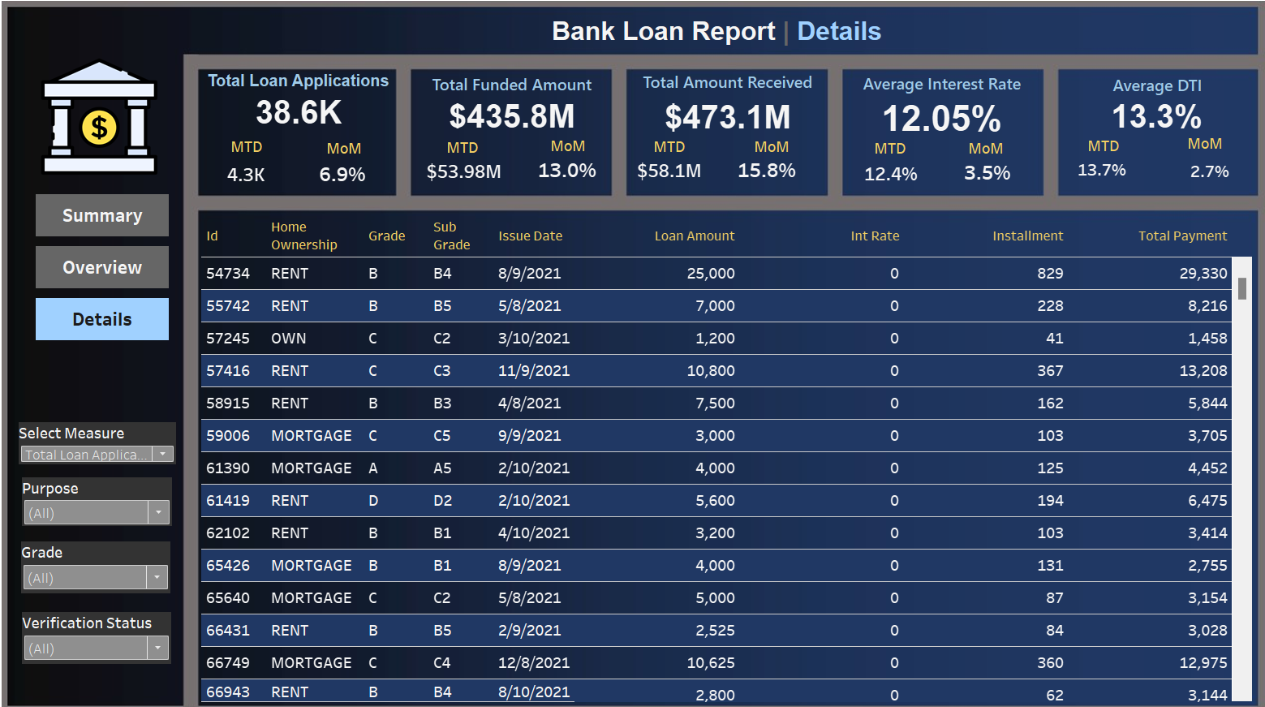

The dashboard page shown, as its layout file describes it:
{"tool":"tableau","page":{"name":"Details","canvas":[1600,900],"ordinal":0},"visuals":[{"type":"image","param":"Image/Tableau Background 3.jpg","box":[8,8,1584,884]},{"type":"text","box":[642,30,521,39]},{"type":"image","param":"Image/bank_4770298.png","box":[56,76,170,156]},{"type":"worksheet","title":"Total Amount Received","mark":"Automatic","box":[790,93,252,82]},{"type":"worksheet","title":"Total Loan Applications","mark":"Automatic","box":[266,95,241,70]},{"type":"worksheet","title":"Average Interest Rate","mark":"Automatic","box":[1055,95,250,81]},{"type":"worksheet","title":"Total Funded Amount","mark":"Automatic","box":[527,96,246,73]},{"type":"worksheet","title":"Average DTI","mark":"Automatic","box":[1325,97,241,72]},{"type":"text","box":[1454,172,100,30]},{"type":"text","box":[669,175,100,30]},{"type":"text","box":[1329,175,100,30]},{"type":"text","box":[273,176,100,30]},{"type":"text","box":[794,176,100,30]},{"type":"text","box":[920,176,100,30]},{"type":"text","box":[539,177,100,30]},{"type":"text","box":[393,178,100,30]},{"type":"text","box":[1066,178,100,30]},{"type":"text","box":[1184,178,100,30]},{"type":"worksheet","title":"MoM Total Funded Amount","mark":"Automatic","box":[675,198,86,42]},{"type":"worksheet","title":"MTD Total Amount Received","mark":"Automatic","box":[799,200,90,39]},{"type":"worksheet","title":"MoM Total Amount Received","mark":"Automatic","box":[921,200,85,37]},{"type":"worksheet","title":"MTD Average DTI","mark":"Automatic","box":[1327,200,100,37]},{"type":"worksheet","title":"MoM Average DTI","mark":"Automatic","box":[1465,200,90,41]},{"type":"worksheet","title":"MTD Total Funded Amount","mark":"Automatic","box":[540,201,101,39]},{"type":"worksheet","title":"MoM Average Interest Rate","mark":"Automatic","box":[1194,205,83,33]},{"type":"worksheet","title":"MTD Average Interest Rate","mark":"Automatic","box":[1077,207,80,33]},{"type":"worksheet","title":"MTD Loan Applications","mark":"Automatic","box":[278,208,87,33]},{"type":"worksheet","title":"MoM Loan Applications","mark":"Automatic","box":[399,208,84,31]},{"type":"dashboard-object","box":[63,250,164,52]},{"type":"worksheet","title":"Details Tab","mark":"Automatic","rows":["id","home_ownership","grade","sub_grade","issue_date"],"box":[267,275,1295,601]},{"type":"dashboard-object","box":[63,314,164,52]},{"type":"dashboard-object","box":[63,378,164,52]},{"type":"parameter","param":"[Parameters].[Parameter 1]","box":[42,531,194,52]},{"type":"filter","title":"Average DTI","param":"[federated.1mfxow81dj9rb515gv0x40jgt81q].[none:purpose:nk]","box":[46,599,185,60]},{"type":"filter","title":"Average DTI","param":"[federated.1mfxow81dj9rb515gv0x40jgt81q].[none:grade:nk]","box":[45,678,184,64]},{"type":"filter","title":"Average DTI","param":"[federated.1mfxow81dj9rb515gv0x40jgt81q].[none:verification_status:nk]","box":[46,765,184,64]}]}

Visuals, with their boxes in screenshot pixels (x1, y1, x2, y2), scaled from the page's 1600x900 canvas onto the 1265x707 screenshot:
image: l=6, t=6, r=1259, b=701
text: l=508, t=24, r=919, b=54
image: l=44, t=60, r=179, b=182
"Total Amount Received" worksheet: l=625, t=73, r=824, b=137
"Total Loan Applications" worksheet: l=210, t=75, r=401, b=130
"Average Interest Rate" worksheet: l=834, t=75, r=1032, b=138
"Total Funded Amount" worksheet: l=417, t=75, r=611, b=133
"Average DTI" worksheet: l=1048, t=76, r=1238, b=133
text: l=1150, t=135, r=1229, b=159
text: l=529, t=137, r=608, b=161
text: l=1051, t=137, r=1130, b=161
text: l=216, t=138, r=295, b=162
text: l=628, t=138, r=707, b=162
text: l=727, t=138, r=806, b=162
text: l=426, t=139, r=505, b=163
text: l=311, t=140, r=390, b=163
text: l=843, t=140, r=922, b=163
text: l=936, t=140, r=1015, b=163
"MoM Total Funded Amount" worksheet: l=534, t=156, r=602, b=189
"MTD Total Amount Received" worksheet: l=632, t=157, r=703, b=188
"MoM Total Amount Received" worksheet: l=728, t=157, r=795, b=186
"MTD Average DTI" worksheet: l=1049, t=157, r=1128, b=186
"MoM Average DTI" worksheet: l=1158, t=157, r=1229, b=189
"MTD Total Funded Amount" worksheet: l=427, t=158, r=507, b=189
"MoM Average Interest Rate" worksheet: l=944, t=161, r=1010, b=187
"MTD Average Interest Rate" worksheet: l=852, t=163, r=915, b=189
"MTD Loan Applications" worksheet: l=220, t=163, r=289, b=189
"MoM Loan Applications" worksheet: l=315, t=163, r=382, b=188
dashboard-object: l=50, t=196, r=179, b=237
"Details Tab" worksheet: l=211, t=216, r=1235, b=688
dashboard-object: l=50, t=247, r=179, b=288
dashboard-object: l=50, t=297, r=179, b=338
parameter: l=33, t=417, r=187, b=458
"Average DTI" filter: l=36, t=471, r=183, b=518
"Average DTI" filter: l=36, t=533, r=181, b=583
"Average DTI" filter: l=36, t=601, r=182, b=651
